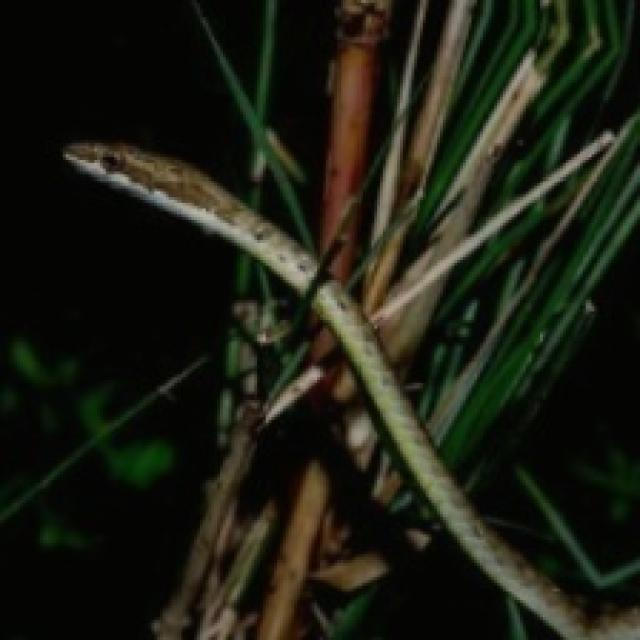philippine whip snake: (311, 280, 637, 637), (63, 143, 314, 291)
